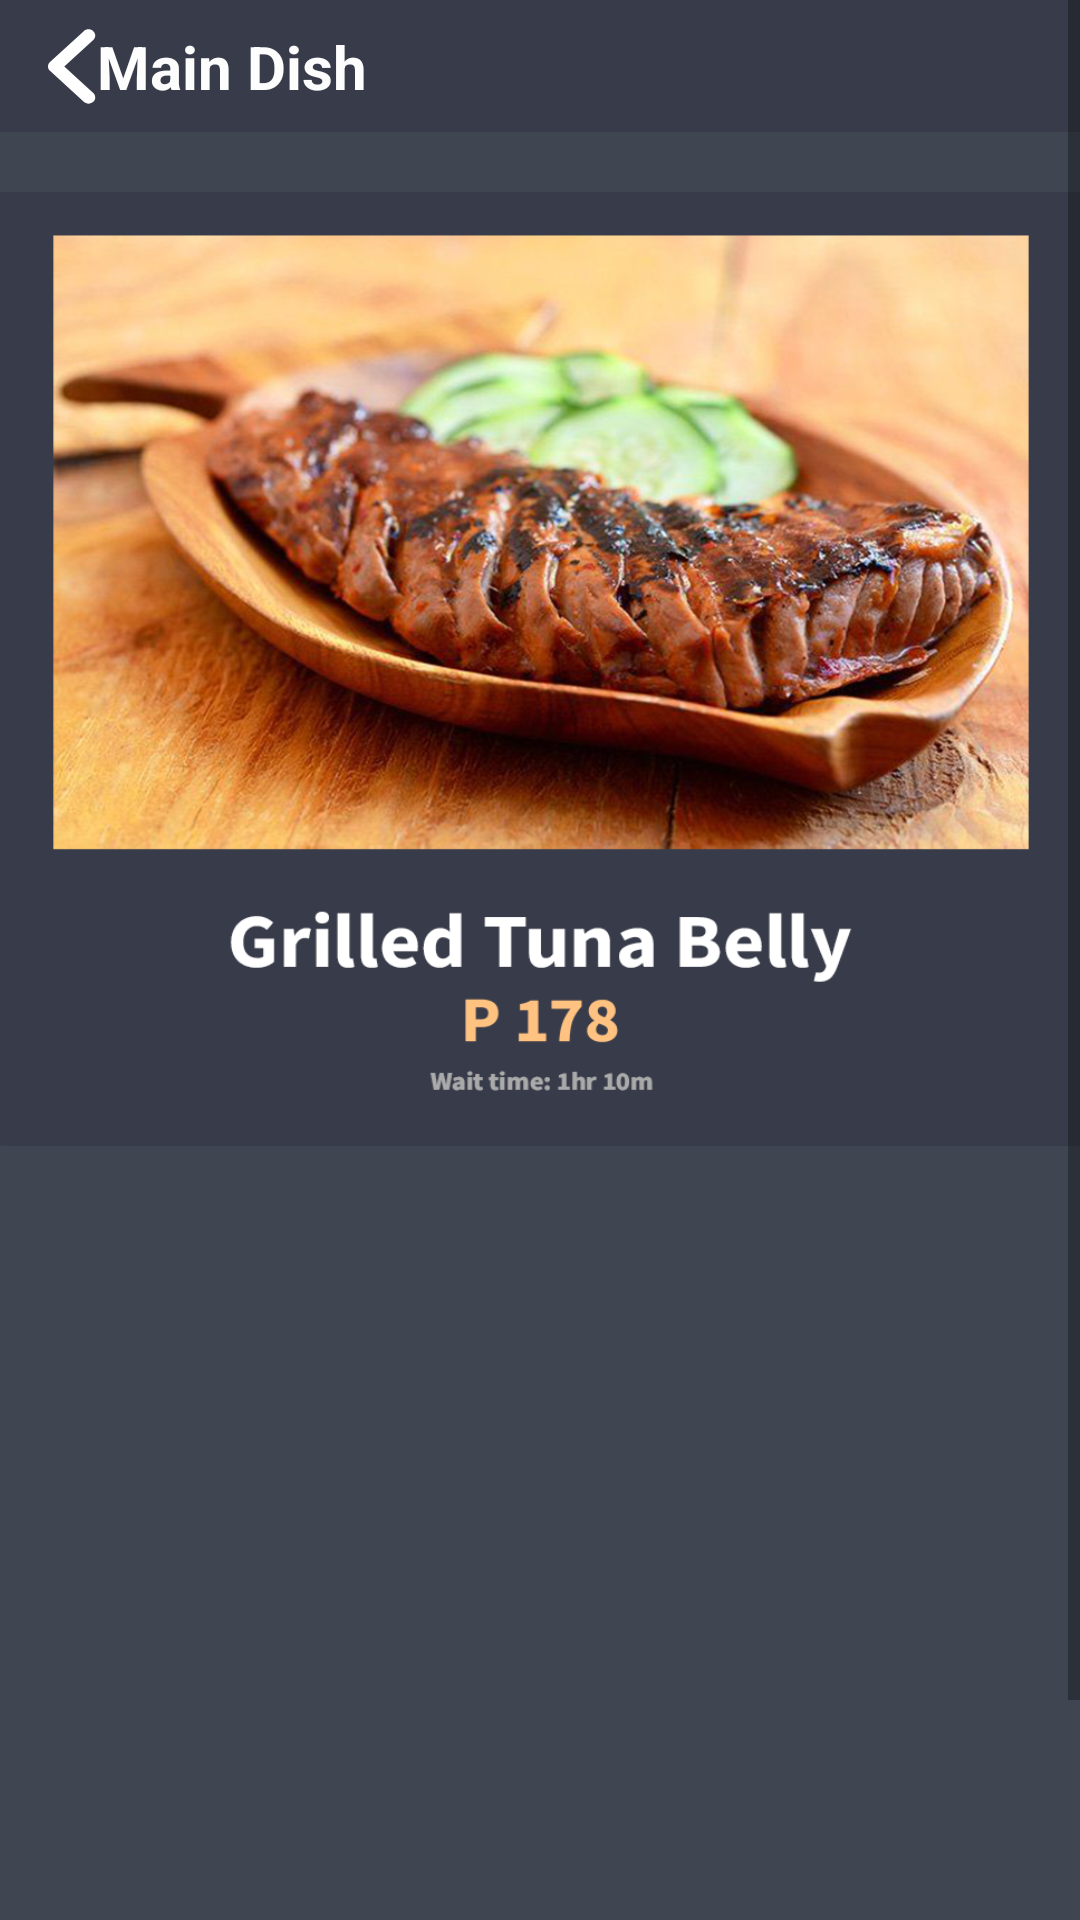

Where icons sit on this 1080×1920 app screen, as (x1, y1, x2, y2):
angle left: (48, 29, 96, 104)
